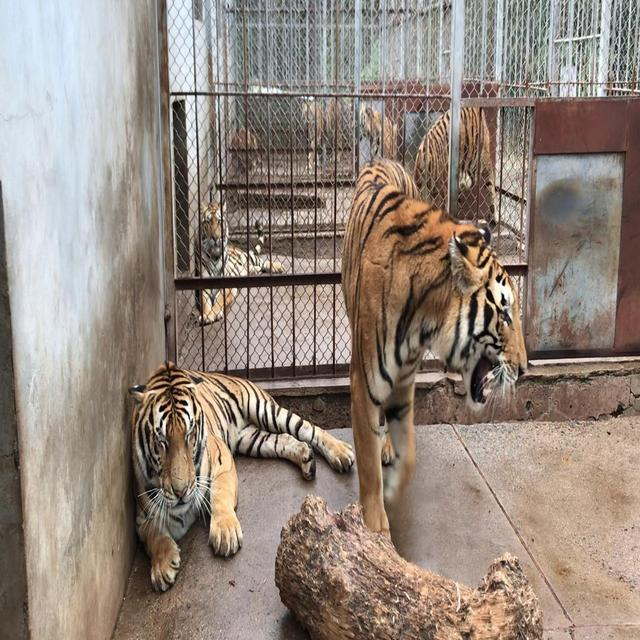tiger: (339, 155, 529, 543), (127, 358, 355, 593), (190, 199, 287, 325), (412, 104, 499, 228), (300, 96, 399, 170), (359, 105, 401, 163)
